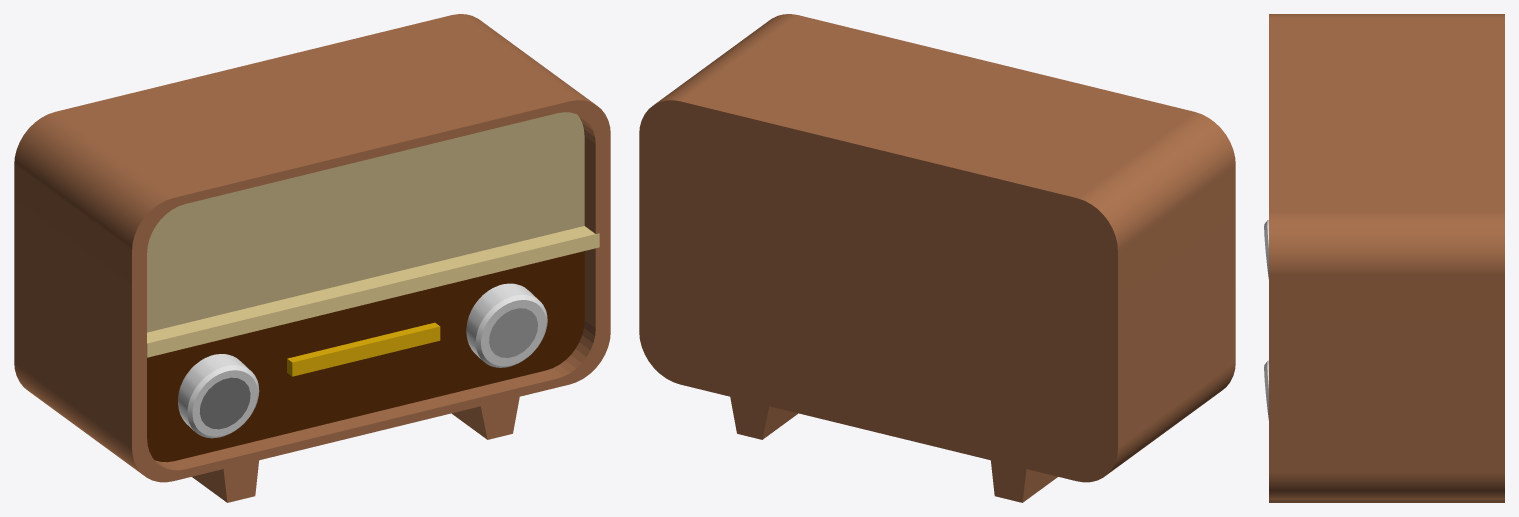
The model's file is Radio.fbx.
3 renders of one model, left to right at view 1: azimuth 30°, elevation 25°; view 2: azimuth 150°, elevation 25°; view 3: azimuth 270°, elevation 25°, orthographic.
Visible parts, largest first — view 1: pCube1, pasted__pCube2, pasted__pCylinder1, pCylinder1, pCube2; view 2: pCube1; view 3: pCube1.
Boxes of the visible parts, box(x1,y1,x2,y2) form: pCube1: box(14, 14, 610, 502); pasted__pCube2: box(147, 226, 599, 357); pasted__pCylinder1: box(466, 283, 547, 367); pCylinder1: box(178, 354, 259, 438); pCube2: box(287, 322, 440, 376); pCube1: box(639, 14, 1235, 502); pCube1: box(1269, 14, 1504, 502).
Size of the model in its own units: 6.72 by 4.27 by 2.93.
